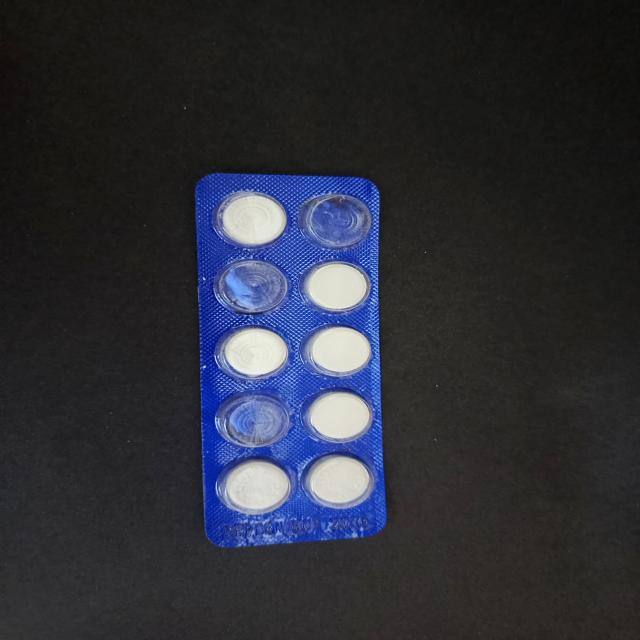defect: (211, 386, 293, 451), (212, 256, 292, 318), (297, 191, 373, 253)
